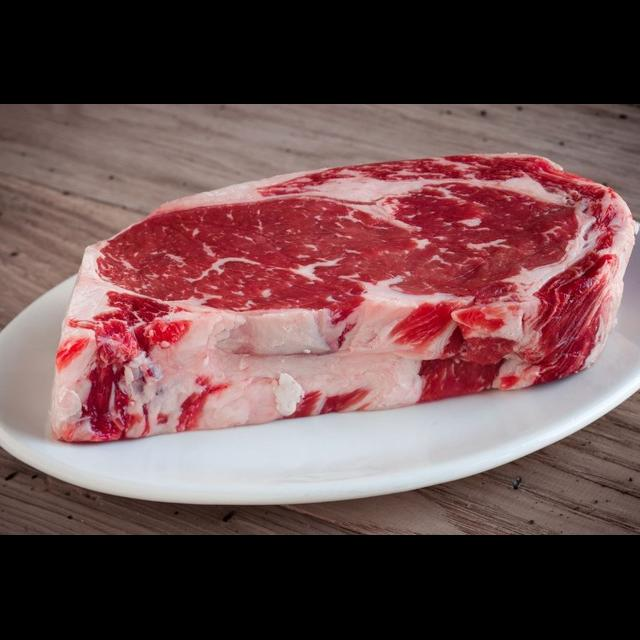beef: (38, 153, 640, 440)
